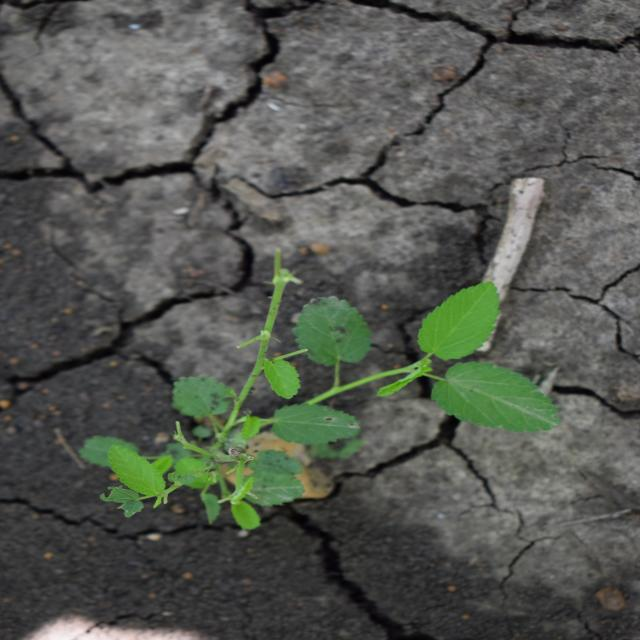PricklySida: (76, 244, 566, 531)
